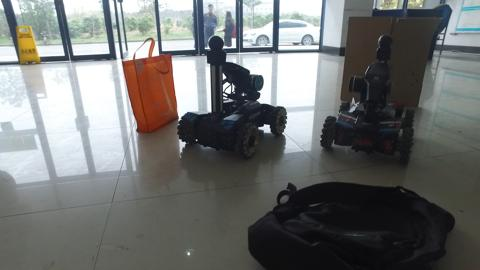bag: (244, 179, 458, 269), (114, 41, 176, 137)
chariot: (180, 38, 290, 157), (325, 33, 419, 162)
